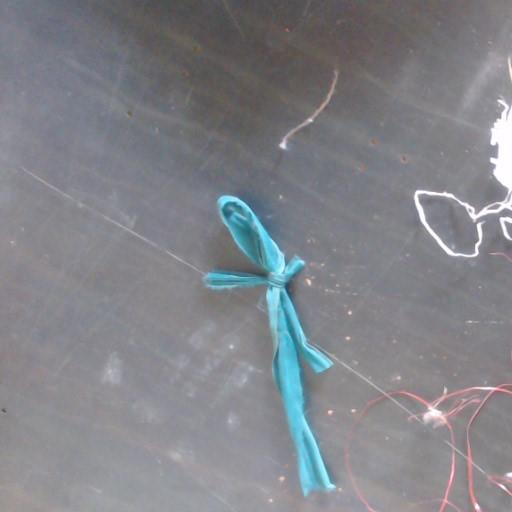cloth: (203, 195, 335, 495)
thread: (349, 383, 511, 511), (414, 97, 511, 256), (279, 70, 338, 149), (345, 447, 377, 511), (486, 474, 511, 498)
